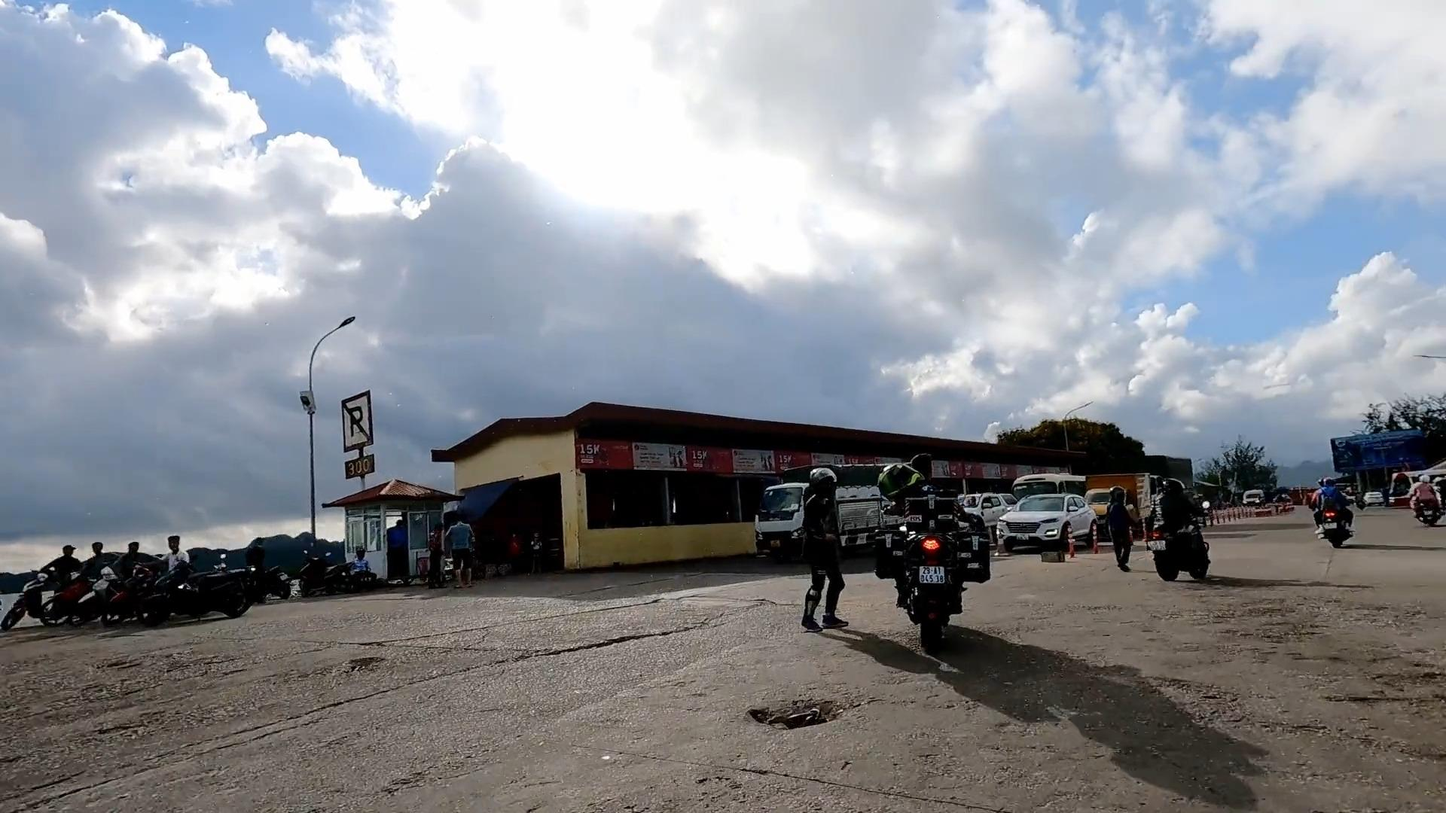driver: (874, 453, 990, 656), (1146, 478, 1211, 582)
helmet: (810, 468, 837, 493), (1161, 478, 1186, 497), (1108, 486, 1125, 503)
